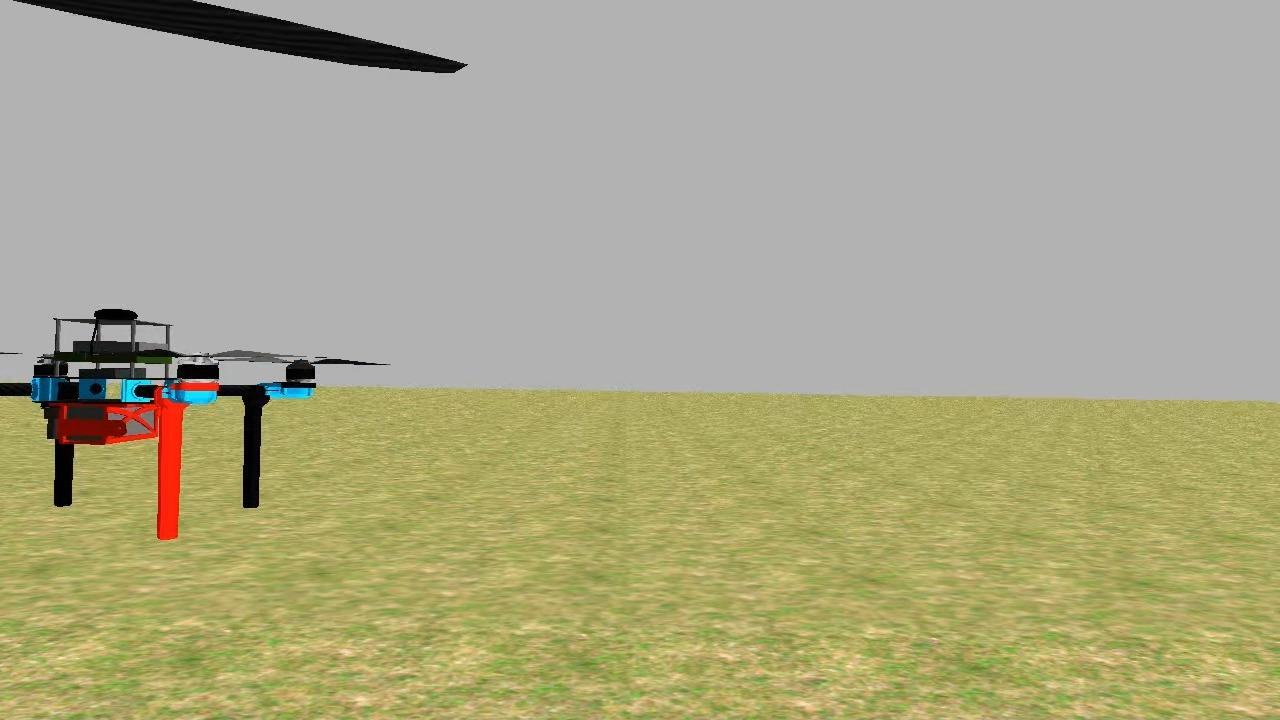UAV: (0, 297, 407, 552)
